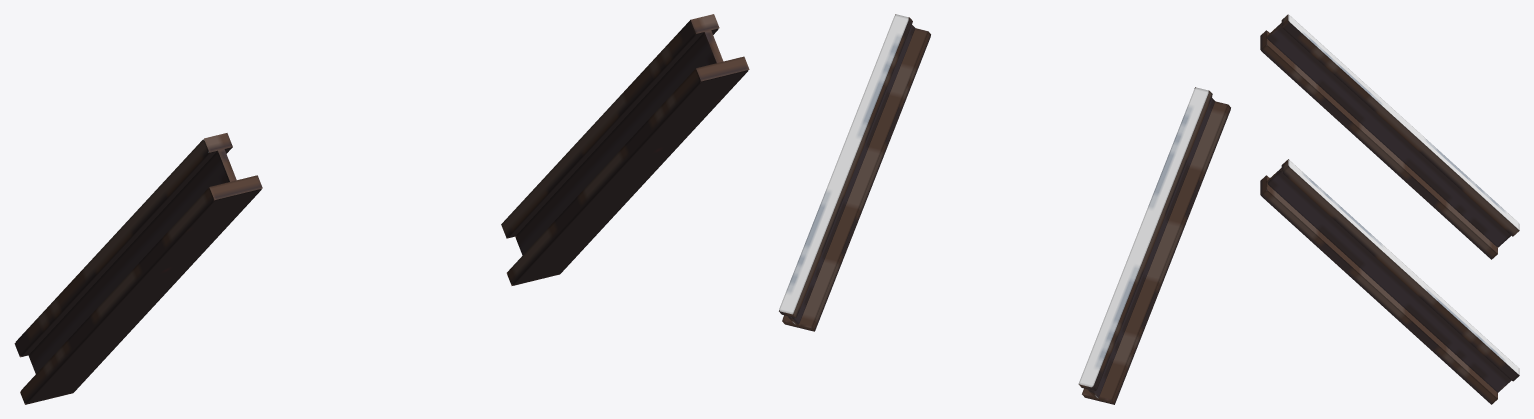
File: ascending.obj
3 views of the same model, side by side, from view 1: azimuth 30°, elevation 25°; view 2: azimuth 150°, elevation 25°; view 3: azimuth 270°, elevation 25° (orthographic). The views are drawn at different scales.
Visible parts, largest first — view 1: cube_selection; view 2: cube_selection; view 3: cube_selection.
Boxes of the visible parts, bbox=[...] form: cube_selection: bbox=[14, 14, 749, 404]; cube_selection: bbox=[779, 14, 1230, 404]; cube_selection: bbox=[1260, 14, 1519, 404].
Size of the model in its own units: 1.66 by 1.14 by 1.14.
